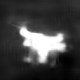plane: (14, 23, 68, 67)
